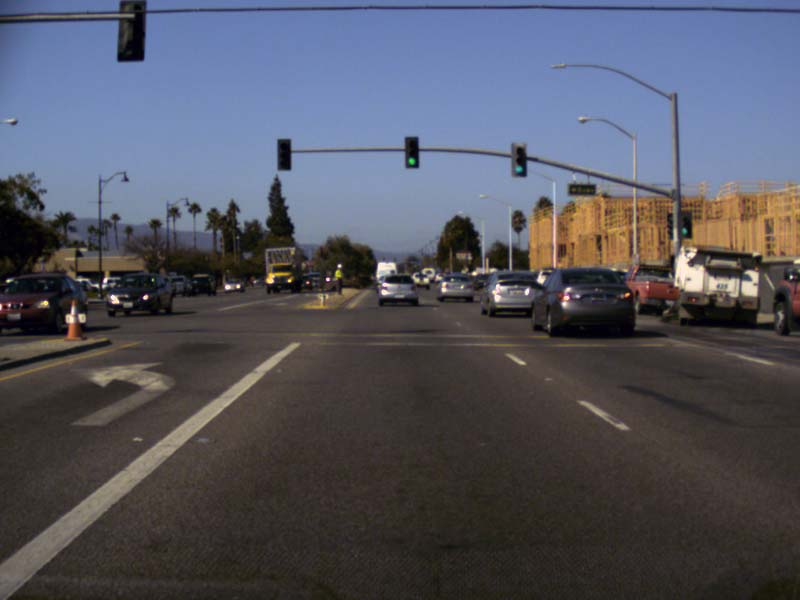Green: (510, 142, 527, 177), (404, 136, 418, 169), (677, 211, 692, 238)
